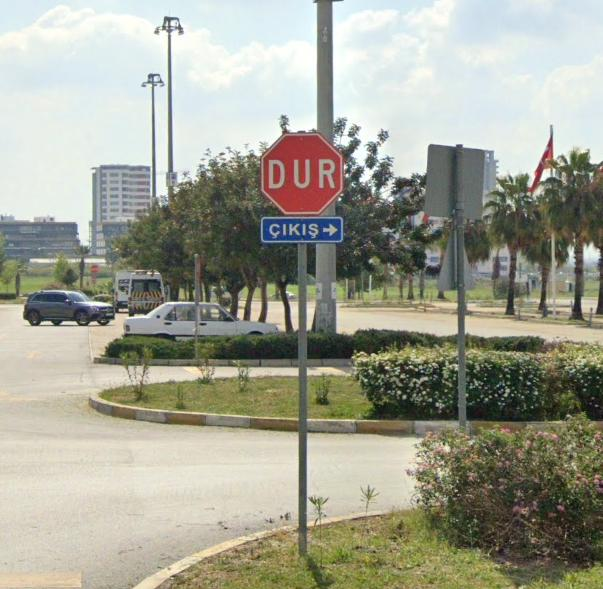stop: (260, 134, 346, 213)
